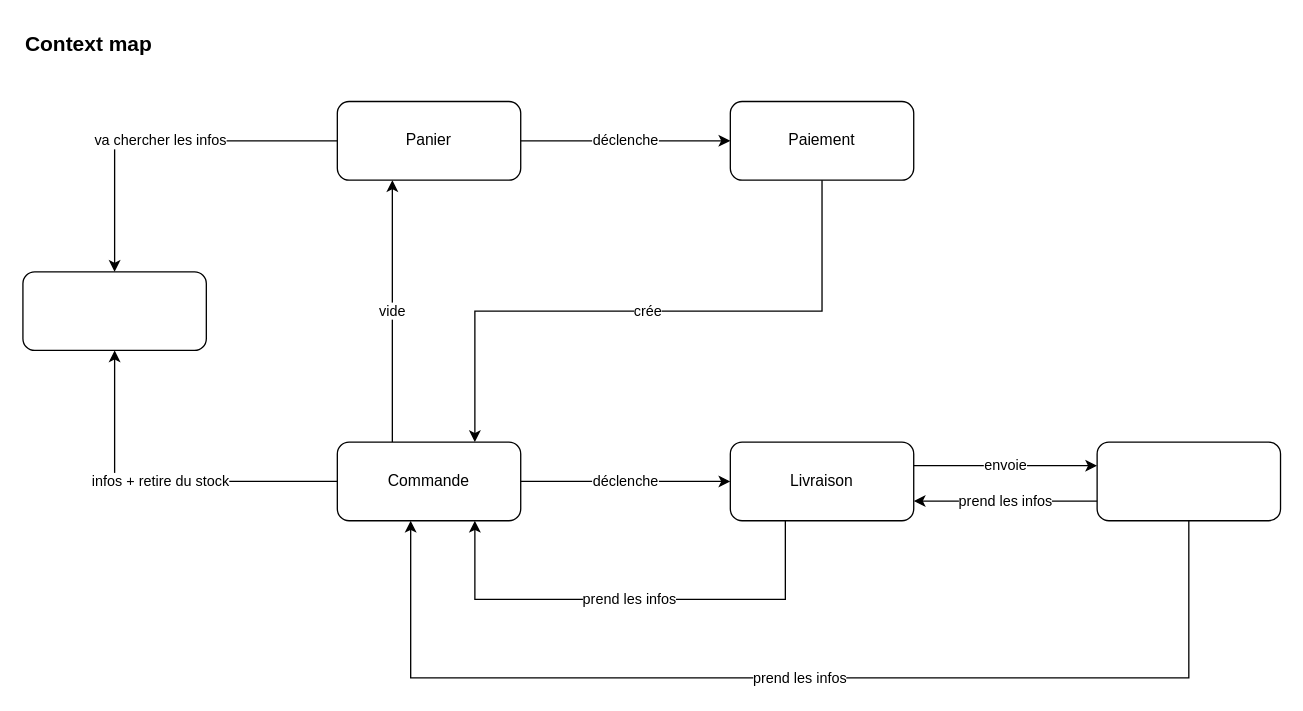
This 1303x711 diagram has some shape labels left out. Each missing label, with the centre of its shape:
"Catalogue" belongs at (x=114, y=310).
"Notification" belongs at (x=1188, y=481).
